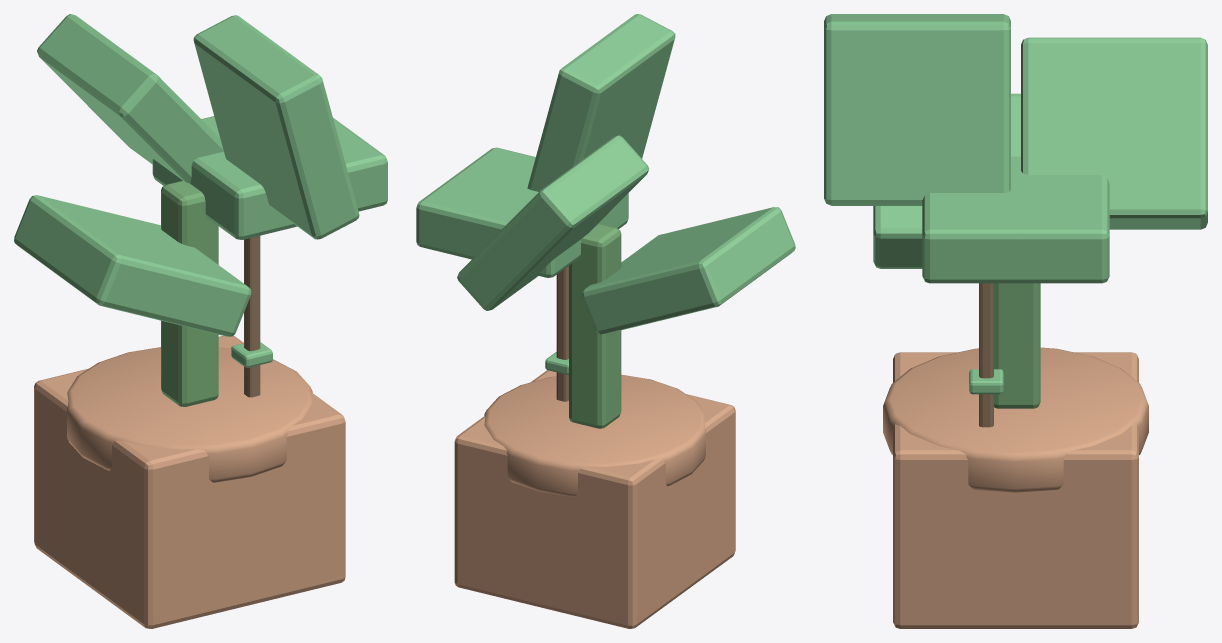
The model's file is растение.glb.
3 views of the same model, side by side, from view 1: azimuth 30°, elevation 25°; view 2: azimuth 150°, elevation 25°; view 3: azimuth 270°, elevation 25° (orthographic). The views are drawn at different scales.
Parts seen in each view (by area): view 1: растение; view 2: растение; view 3: растение.
Part boxes in pixels (<box>): растение: <box>14,14,387,628</box>; растение: <box>416,14,795,628</box>; растение: <box>824,14,1207,628</box>.
Size of the model in its own units: 0.7817 by 1.3 by 0.78.
